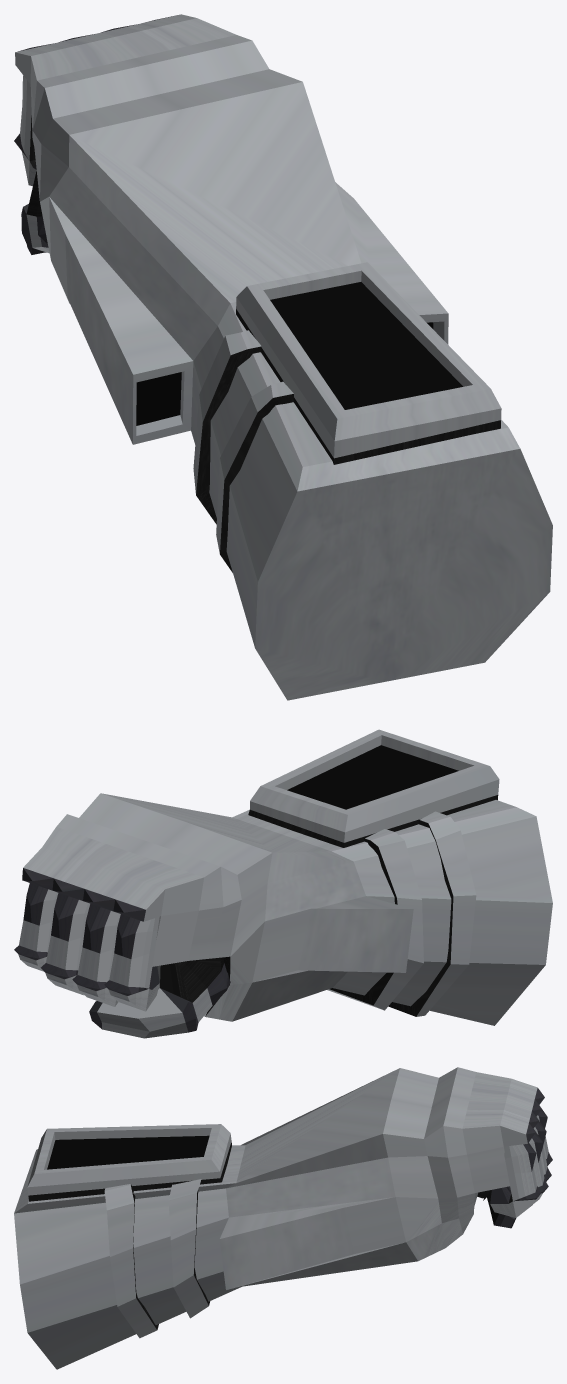
The model's file is PowerFist.fbx.
3 views of the same model, one above another, from view 1: azimuth 30°, elevation 25°; view 2: azimuth 150°, elevation 25°; view 3: azimuth 270°, elevation 25° (orthographic). The views are drawn at different scales.
Parts seen in each view (by area): view 1: PowerFist; view 2: PowerFist; view 3: PowerFist.
Boxes of the visible parts, box(x1,y1,x2,y2) form: PowerFist: box(14, 14, 552, 700); PowerFist: box(14, 729, 552, 1038); PowerFist: box(14, 1067, 552, 1369).
Bounding box in the file's own units: 266 × 314 × 578.
